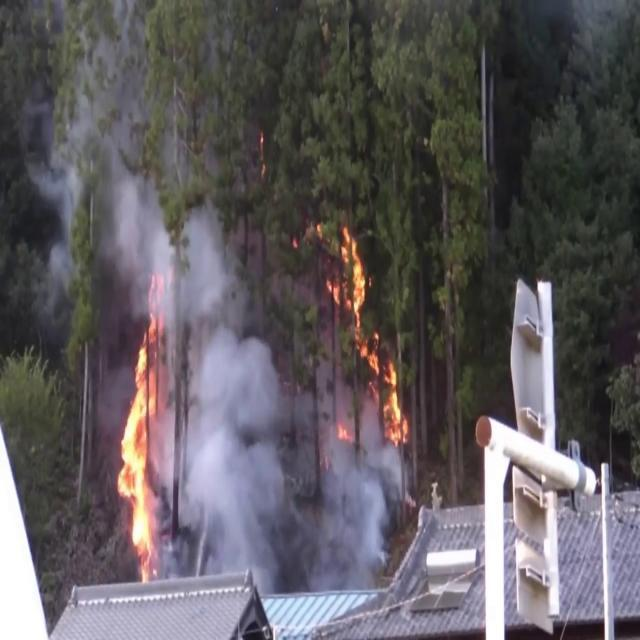Fire: (113, 332, 163, 576), (326, 214, 376, 350), (378, 346, 411, 453)
Smoke: (154, 143, 306, 602), (44, 62, 184, 320), (290, 356, 408, 588)
